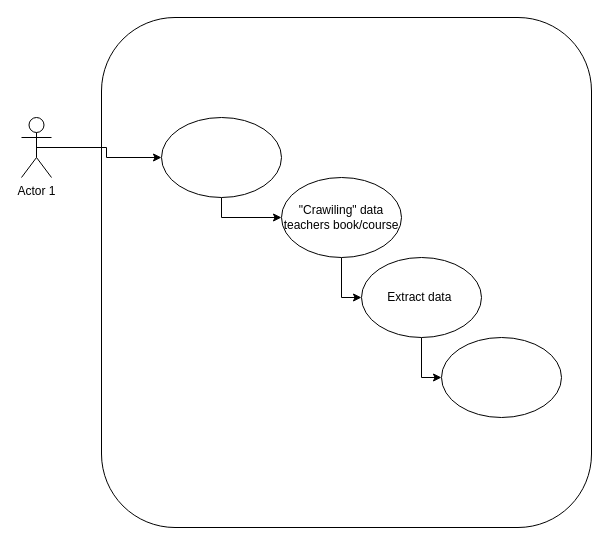
The diagram is 609 pixels wide and 545 high, and some of its shapes have lost their labels. The centre of each missing label's shape, as x and y in pixels:
"Acces website software.ucv.ro" goes at pixel 221 157.
"Insert data local database" goes at pixel 501 377.
